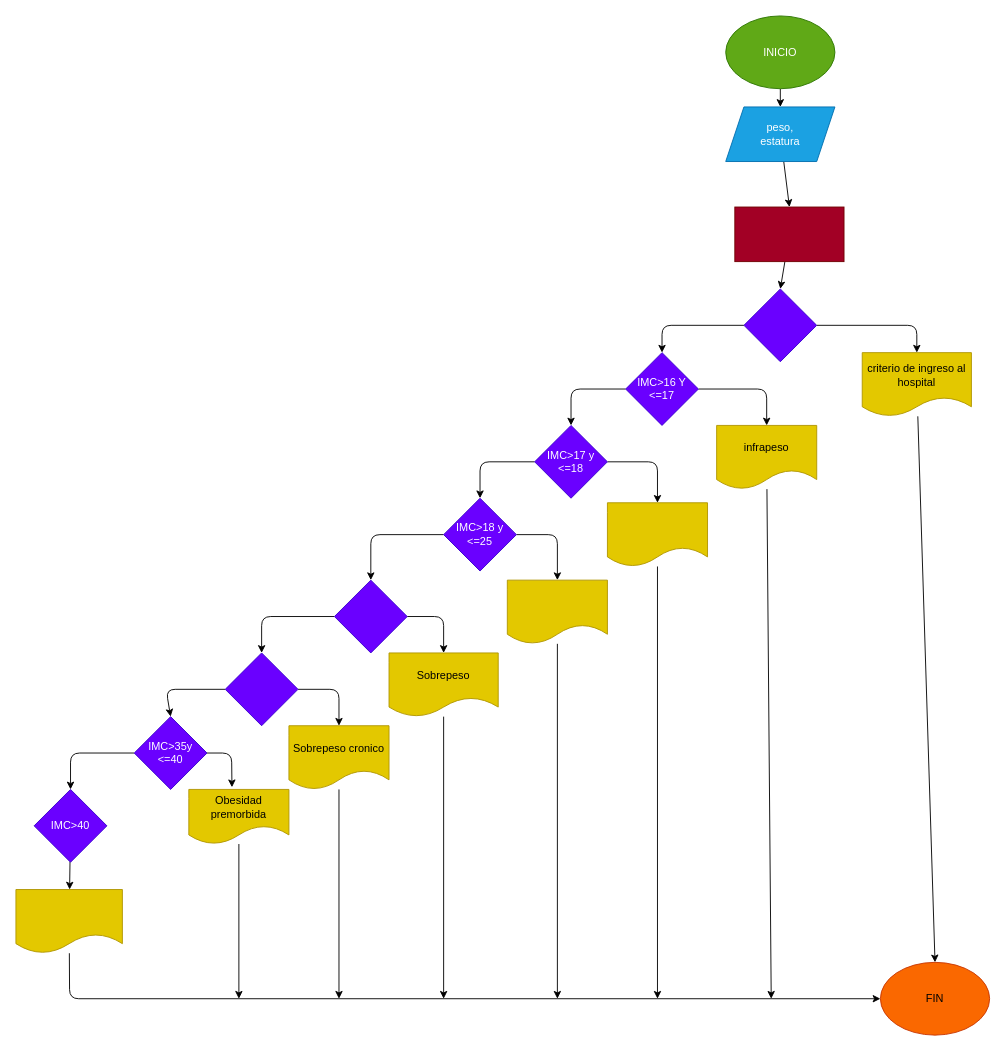
The diagram is 1006 pixels wide and 1051 high, and some of its shapes have lost their labels. The shapes that lost their labels are listed below. From the top down, each one's box as (x1, y1, x2, y2) in pixels, then its label:
(734, 206, 844, 262): IMC=peso/ estatura^2
(743, 288, 817, 362): IMC=16
(607, 502, 708, 566): Bajo peso
(334, 579, 407, 653): IMC>25 y <=30
(506, 579, 607, 644): Peso normal
(224, 652, 298, 726): IMC>30 y <=35
(15, 889, 122, 953): Obesidad morbida
